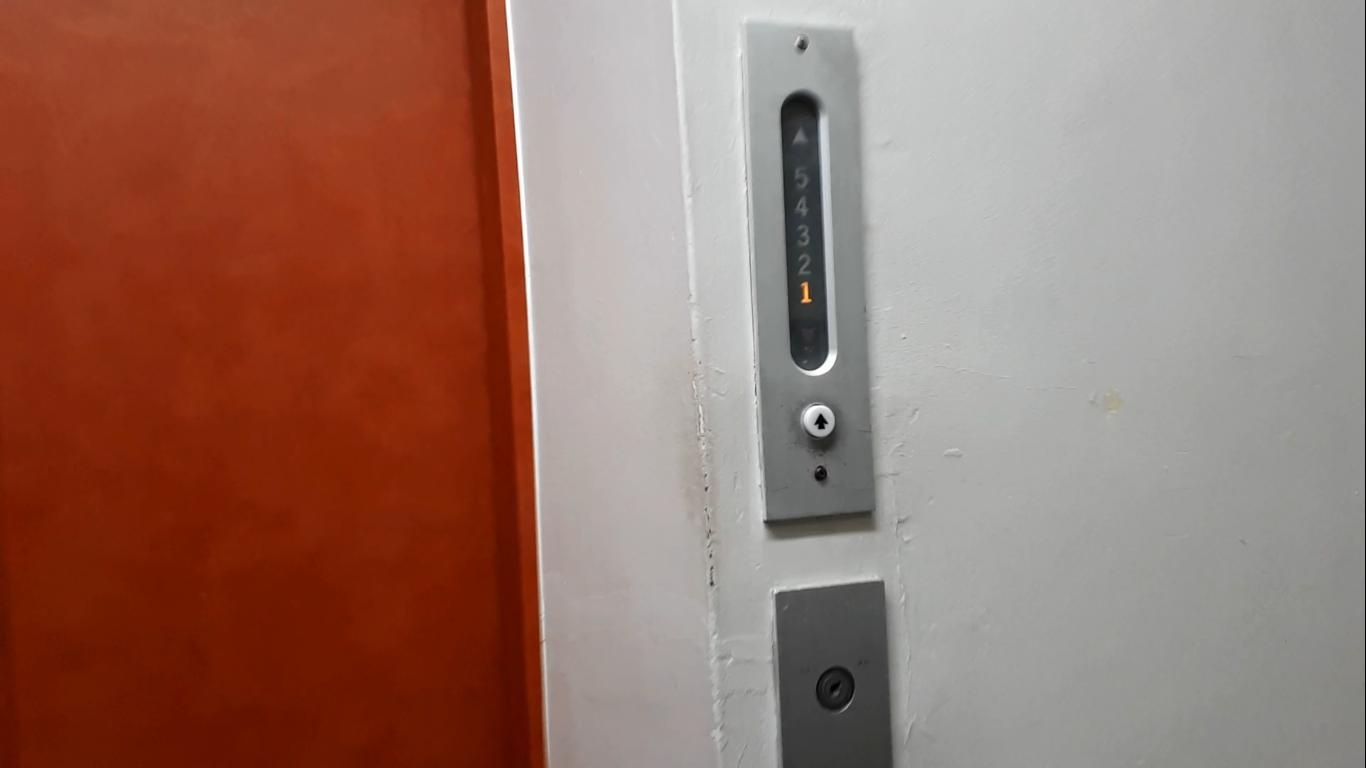keyhole: (816, 663, 856, 716)
led: (777, 85, 836, 376)
up: (803, 403, 835, 442)
